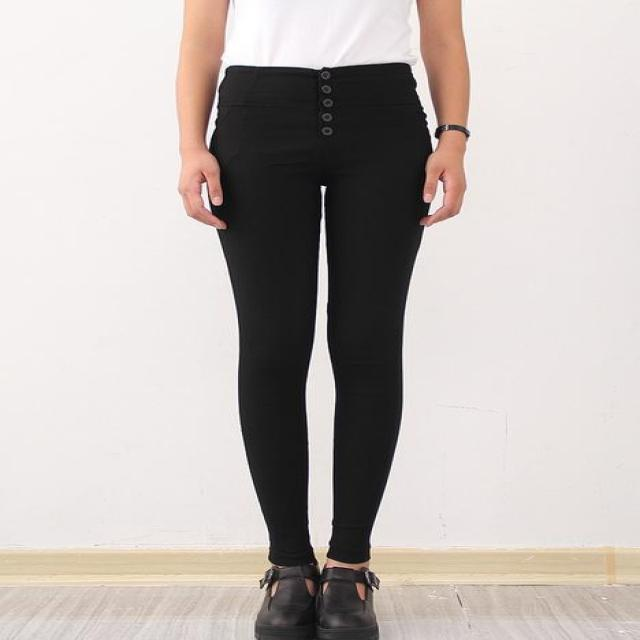short sleeve top: (227, 0, 414, 70)
trousers: (208, 63, 431, 559)
